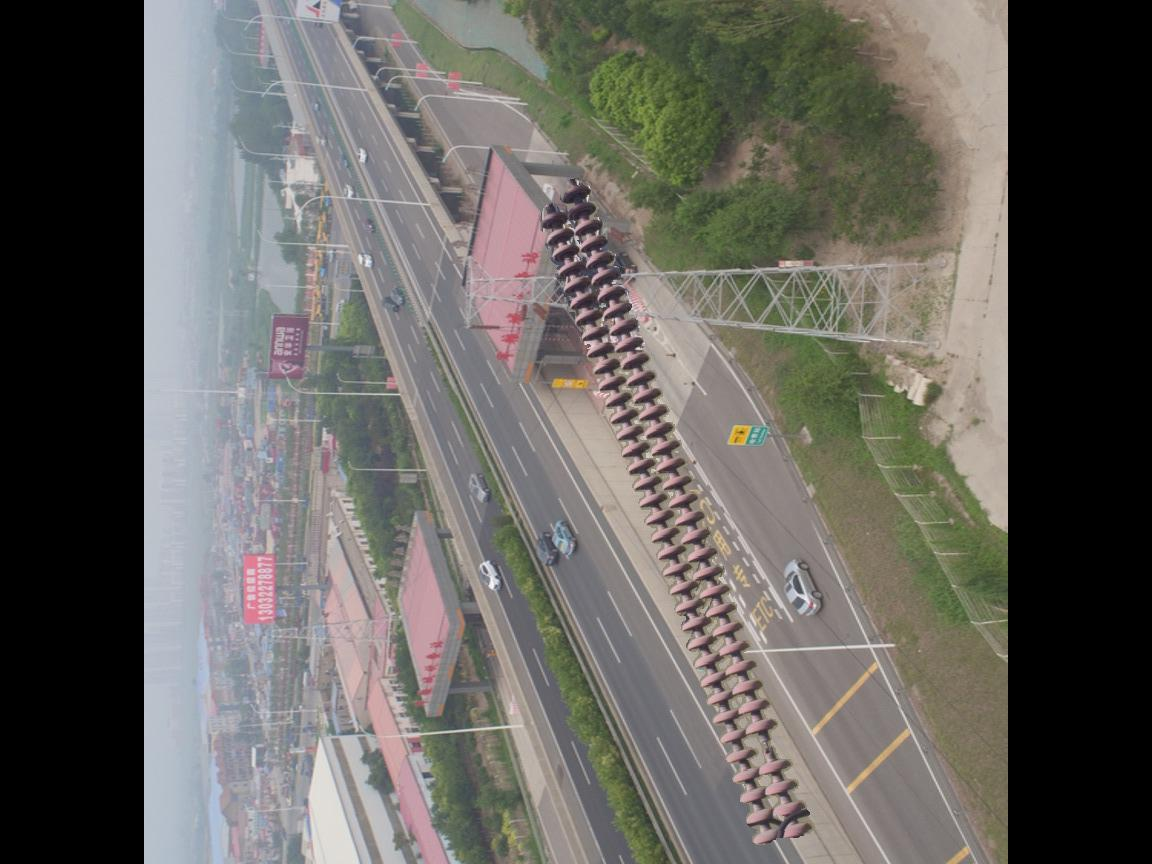insulator: (535, 179, 818, 852)
insulator_stringdrop: (743, 715, 795, 781)
